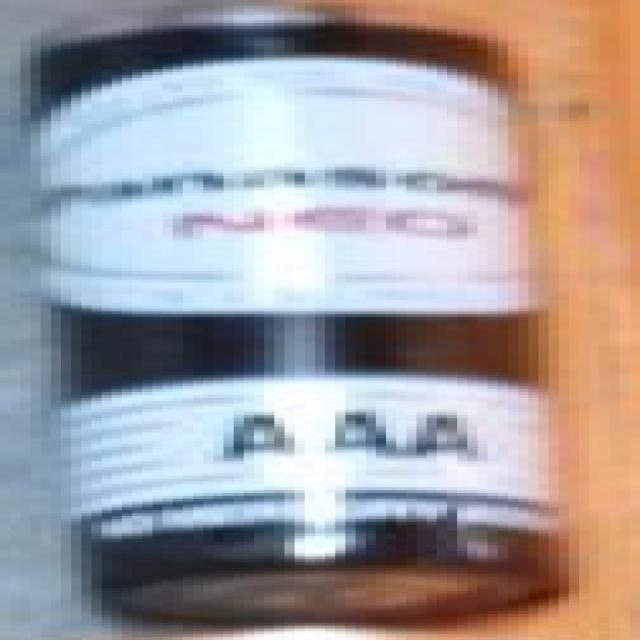battery: (45, 0, 640, 637)
